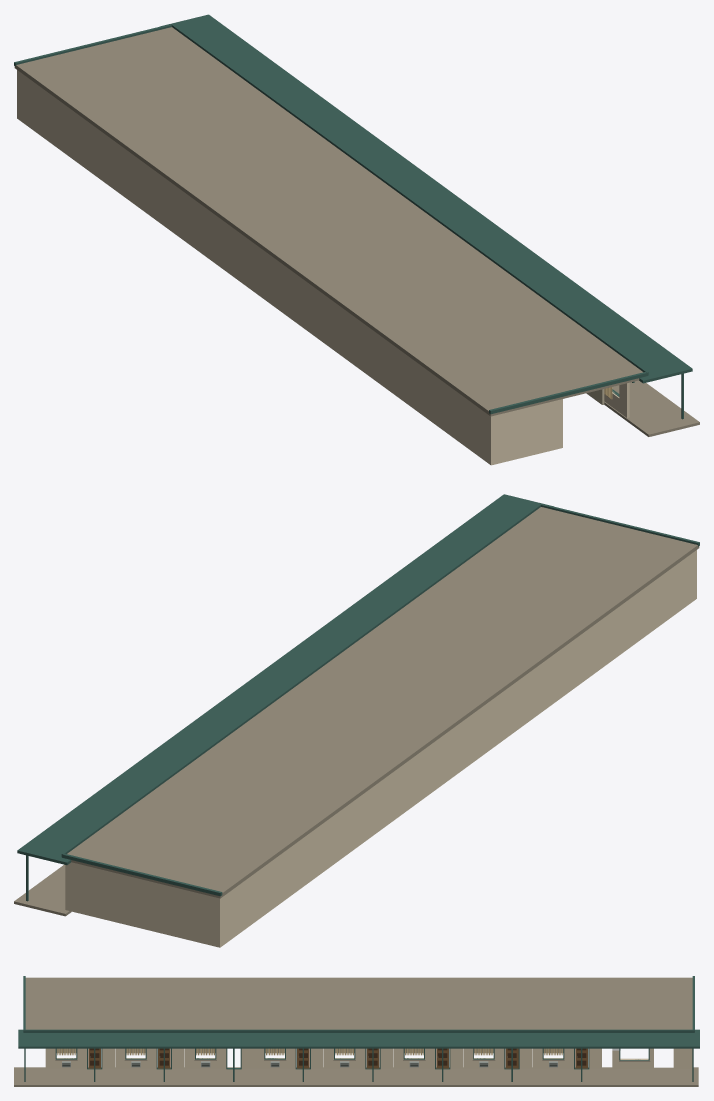
The model's file is SM_Town_Motel_Shell.fbx.
3 renders of one model, top to bottom at view 1: azimuth 30°, elevation 25°; view 2: azimuth 150°, elevation 25°; view 3: azimuth 270°, elevation 25°, orthographic. The views are drawn at different scales.
Parts seen in each view (by area): view 1: SM_Town_Motel_Shell; view 2: SM_Town_Motel_Shell; view 3: SM_Town_Motel_Shell.
Part boxes in pixels (x1=…): SM_Town_Motel_Shell: x1=14, y1=14, x2=699, y2=465; SM_Town_Motel_Shell: x1=14, y1=494, x2=699, y2=947; SM_Town_Motel_Shell: x1=14, y1=976, x2=699, y2=1086.
Bounding box in the file's own units: 11.85 × 49.3 × 3.27.
